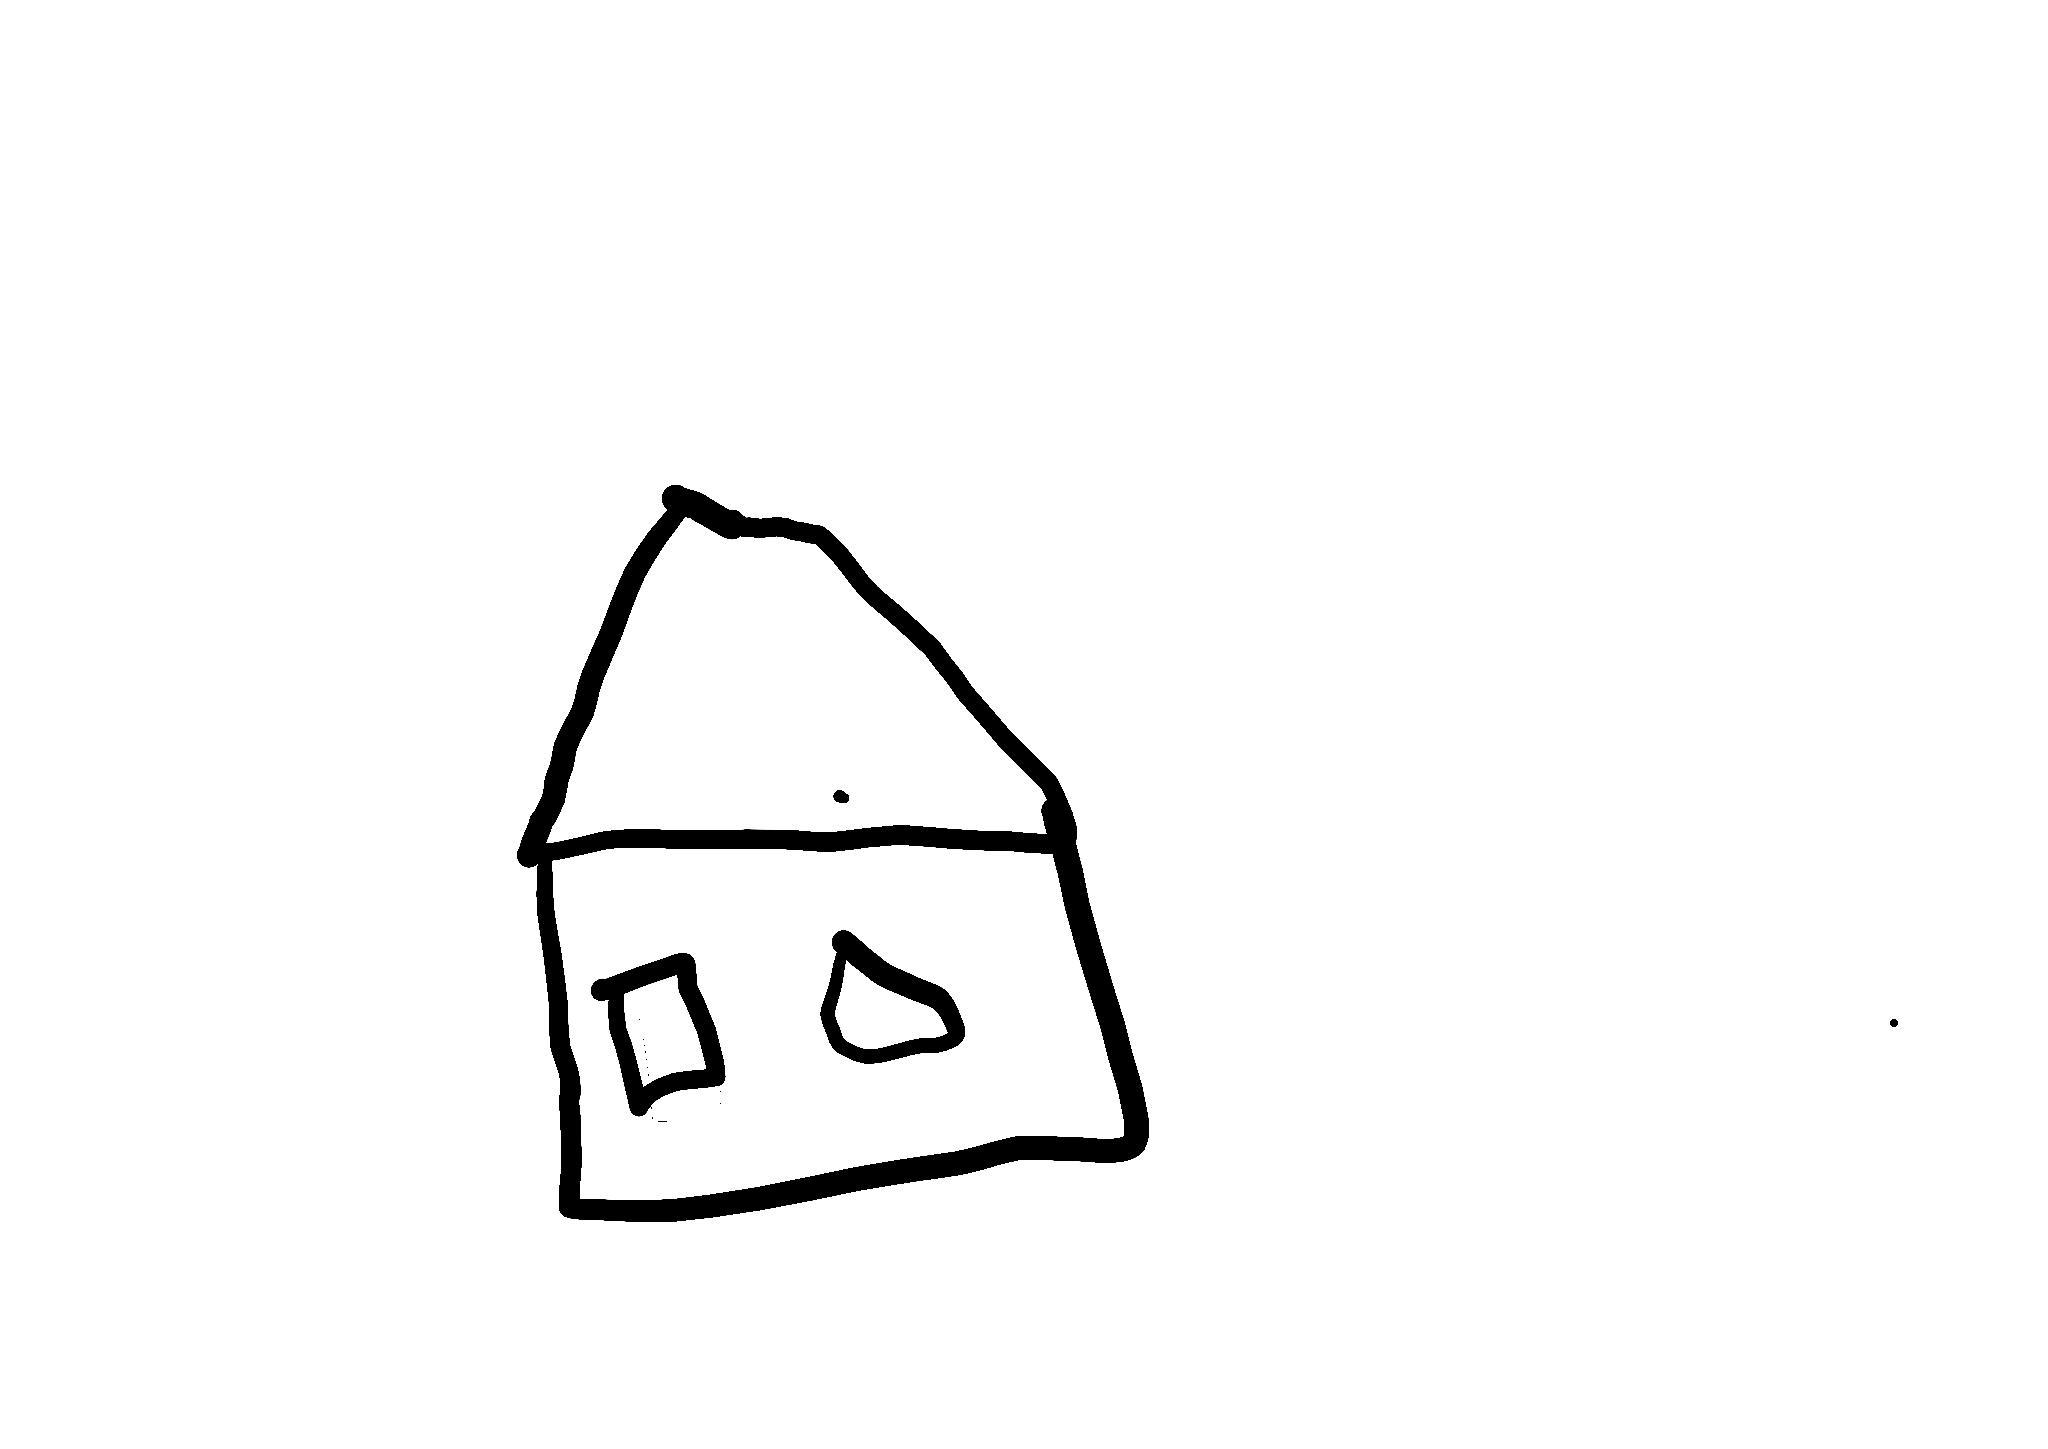house: (521, 488, 1146, 1222)
roof: (552, 522, 1043, 836)
wall: (539, 842, 1153, 1218)
window: (590, 953, 724, 1118), (820, 931, 964, 1065)
